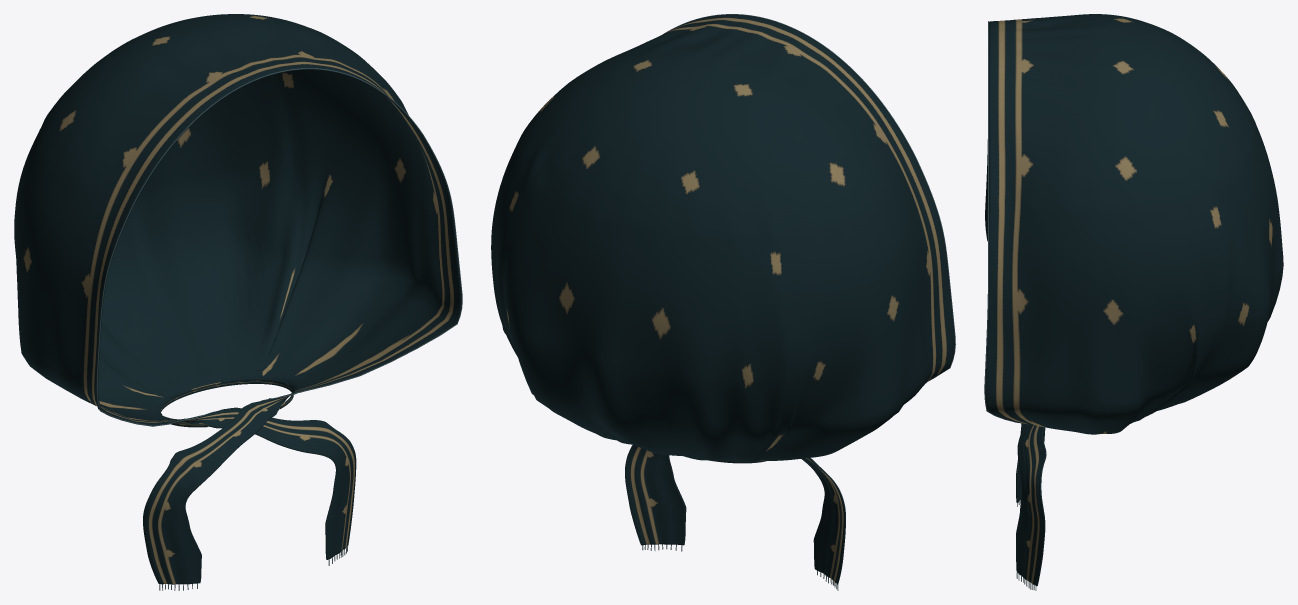
The model's file is Masculine-tshirt-pashmina247-headgear.glb.
The picture shows the model from 3 angles, left to right: view 1: azimuth 30°, elevation 25°; view 2: azimuth 150°, elevation 25°; view 3: azimuth 270°, elevation 25°; orthographic projection. The views are drawn at different scales.
Visible parts, largest first — view 1: 226 headgear / Headwear / continuous woven pashmina239, 226 headgear / Headwear / face edge239; view 2: 226 headgear / Headwear / continuous woven pashmina239, 226 headgear / Headwear / face edge239; view 3: 226 headgear / Headwear / continuous woven pashmina239, 226 headgear / Headwear / face edge239.
Part boxes in pixels (x1=…): 226 headgear / Headwear / continuous woven pashmina239: x1=14, y1=14, x2=461, y2=584; 226 headgear / Headwear / face edge239: x1=96, y1=68, x2=462, y2=426; 226 headgear / Headwear / continuous woven pashmina239: x1=491, y1=14, x2=954, y2=584; 226 headgear / Headwear / face edge239: x1=664, y1=14, x2=955, y2=381; 226 headgear / Headwear / continuous woven pashmina239: x1=985, y1=14, x2=1283, y2=586; 226 headgear / Headwear / face edge239: x1=984, y1=21, x2=1020, y2=423.
Bounding box in the file's own units: 1.03 × 1.35 × 0.7127.
Materials: 3 (1 with a texture image).
